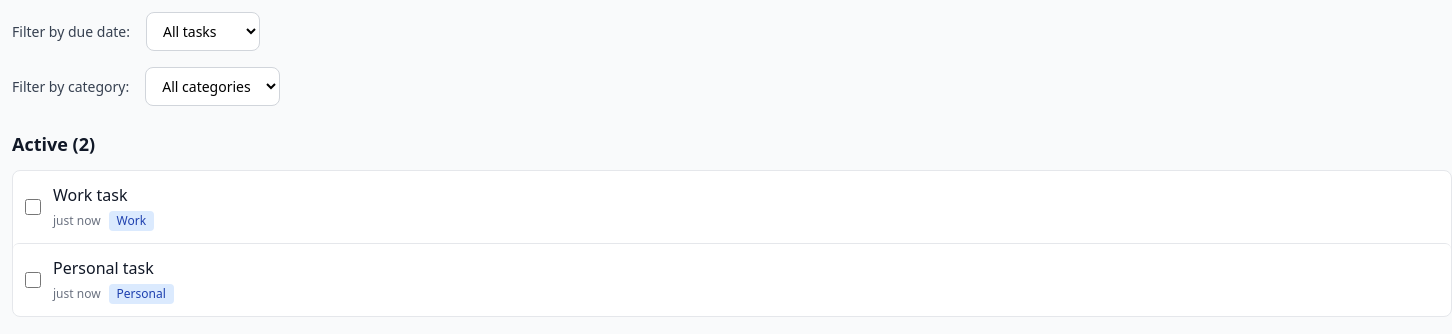
Test: TaskList › should_show_no_tasks_message_when_filter_matches_nothing
Filter by due date - filter for "today" when no tasks are due today
Select "Due today" in the dropdown labelled "Filter by due date:" at (203, 32), box [146,12,260,51]
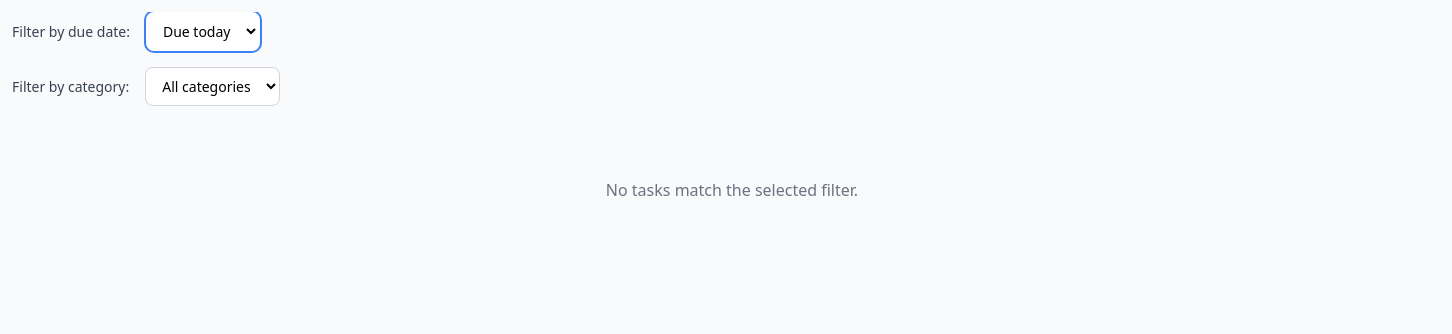
Check: the text "No tasks match the selected filter." is shown, box [606,179,858,201]
